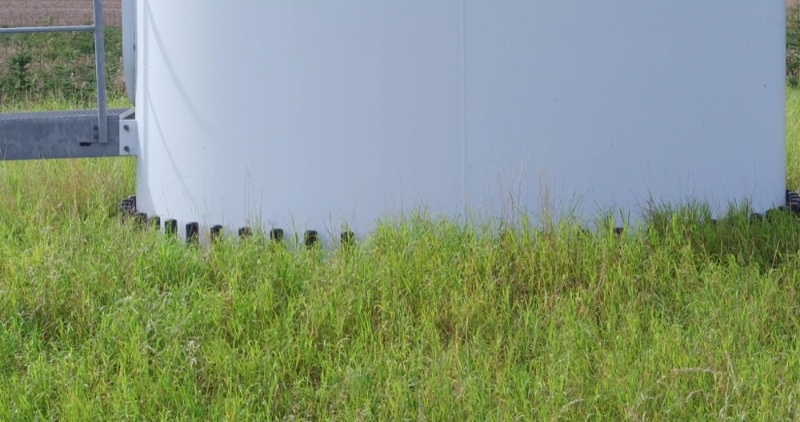weldseam: (448, 1, 470, 215)
